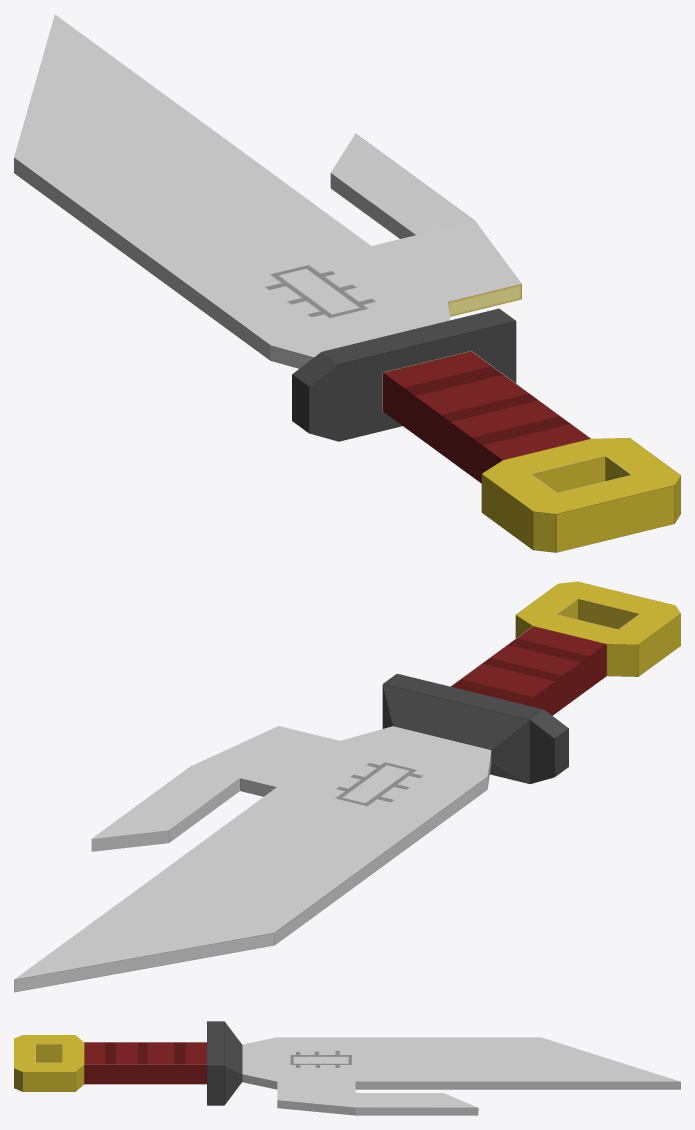
File: tojis_knife.fbx
3 renders of one model, top to bottom at view 1: azimuth 30°, elevation 25°; view 2: azimuth 150°, elevation 25°; view 3: azimuth 270°, elevation 25°, orthographic. The views are drawn at different scales.
Visible parts, largest first — view 1: cuboid; view 2: cuboid; view 3: cuboid.
Boxes of the visible parts, x1,y1,x2,y2 form: cuboid: (14, 14, 680, 552); cuboid: (14, 581, 680, 992); cuboid: (14, 1021, 680, 1115).
Bounding box in the file's own units: 131 × 31.25 × 475.
1 material, 1 textured.
